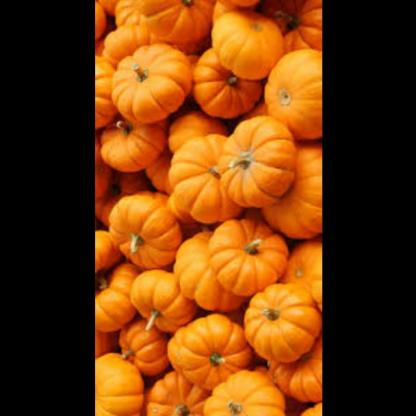pumpkin: (95, 0, 322, 416)
